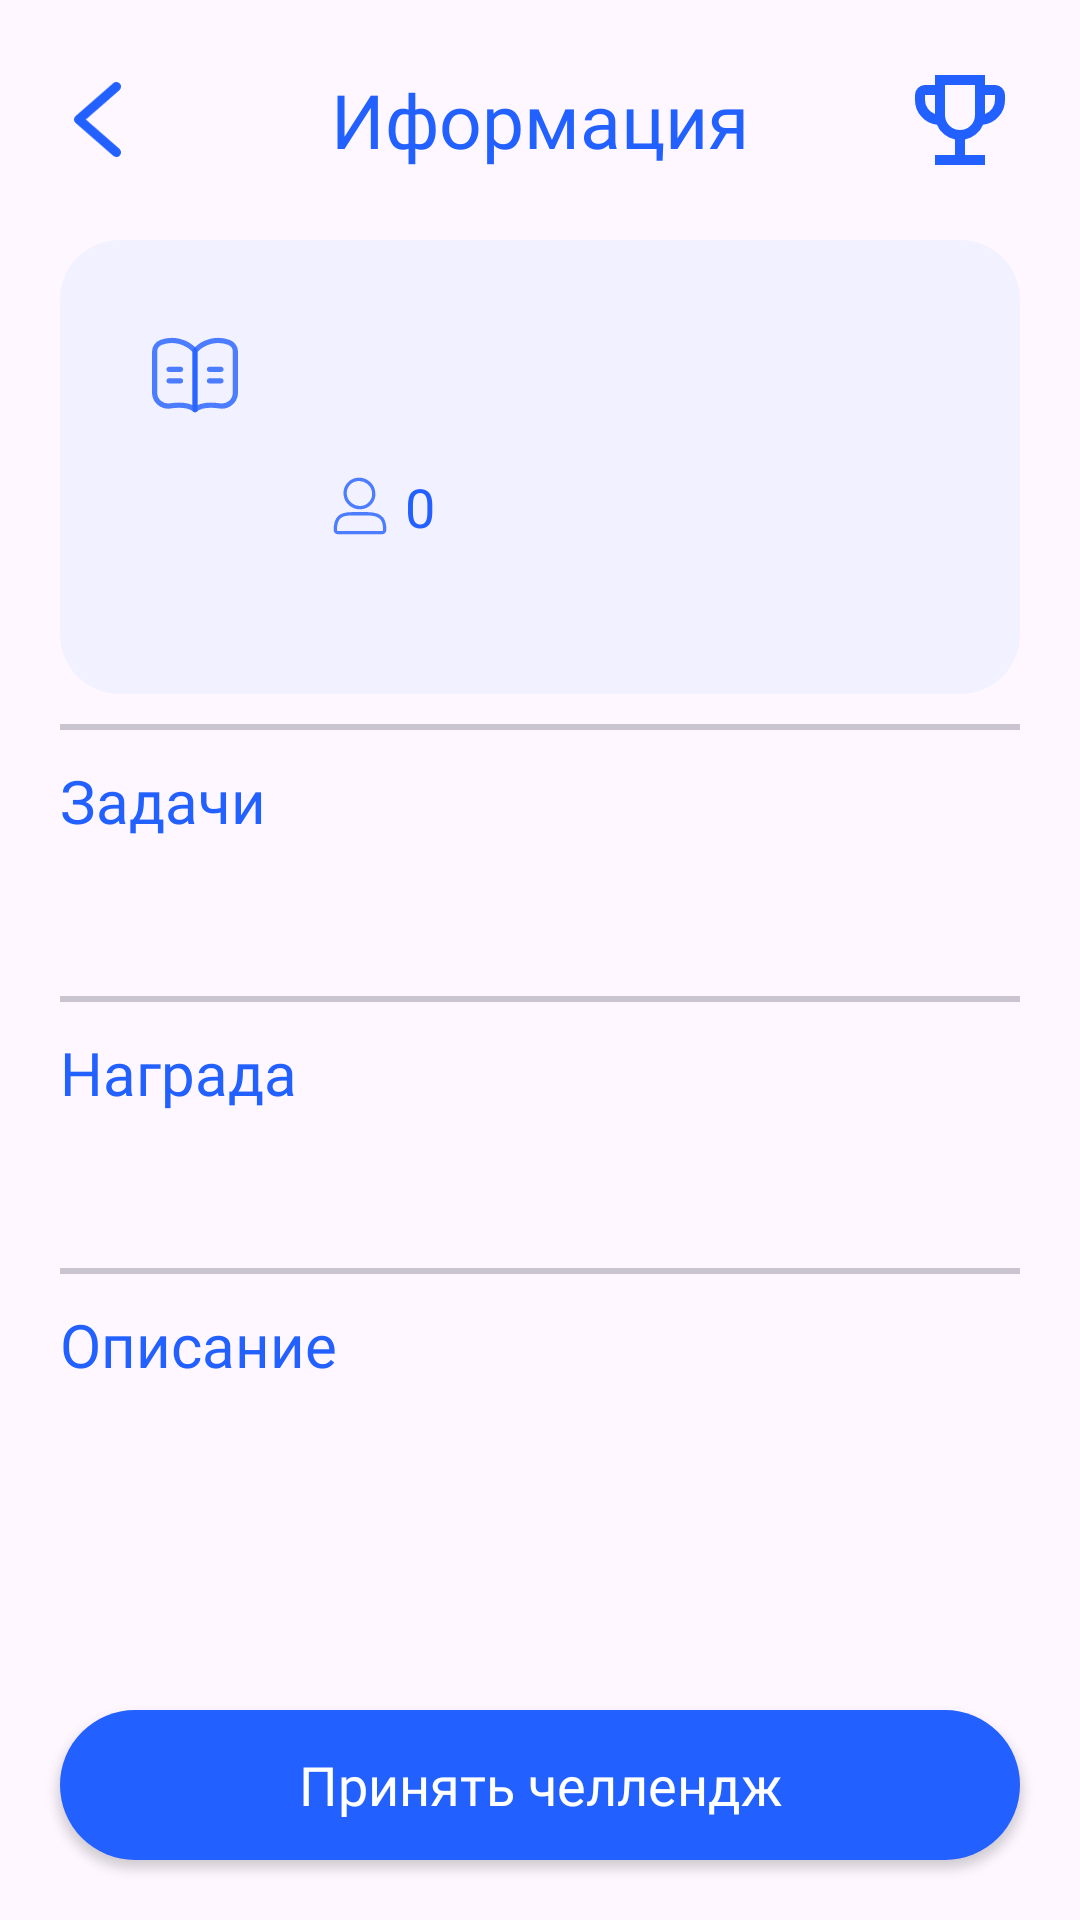

Where icons sit on this 1080*1920 app screen, as (x1, y1, x2, y2):
arrow back: (74, 82, 121, 157)
kybok: (915, 75, 1005, 165)
read: (152, 337, 238, 413)
user: (333, 477, 387, 535)
